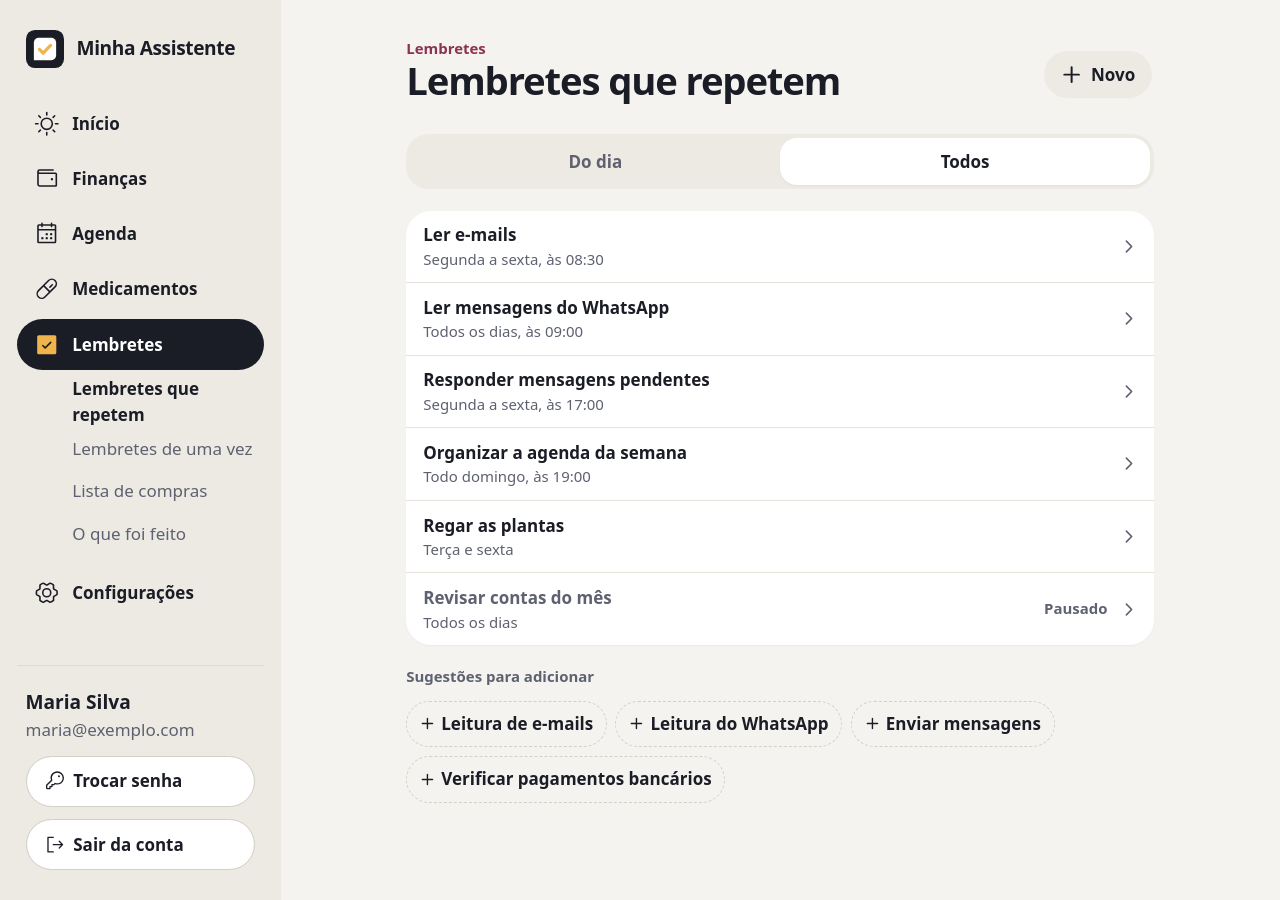
it: cadastro de tarefa › pausar e excluir
Click the link "Regar as plantas Terça e sexta": (494,525) [406,501,1154,572]
(page scrolled)
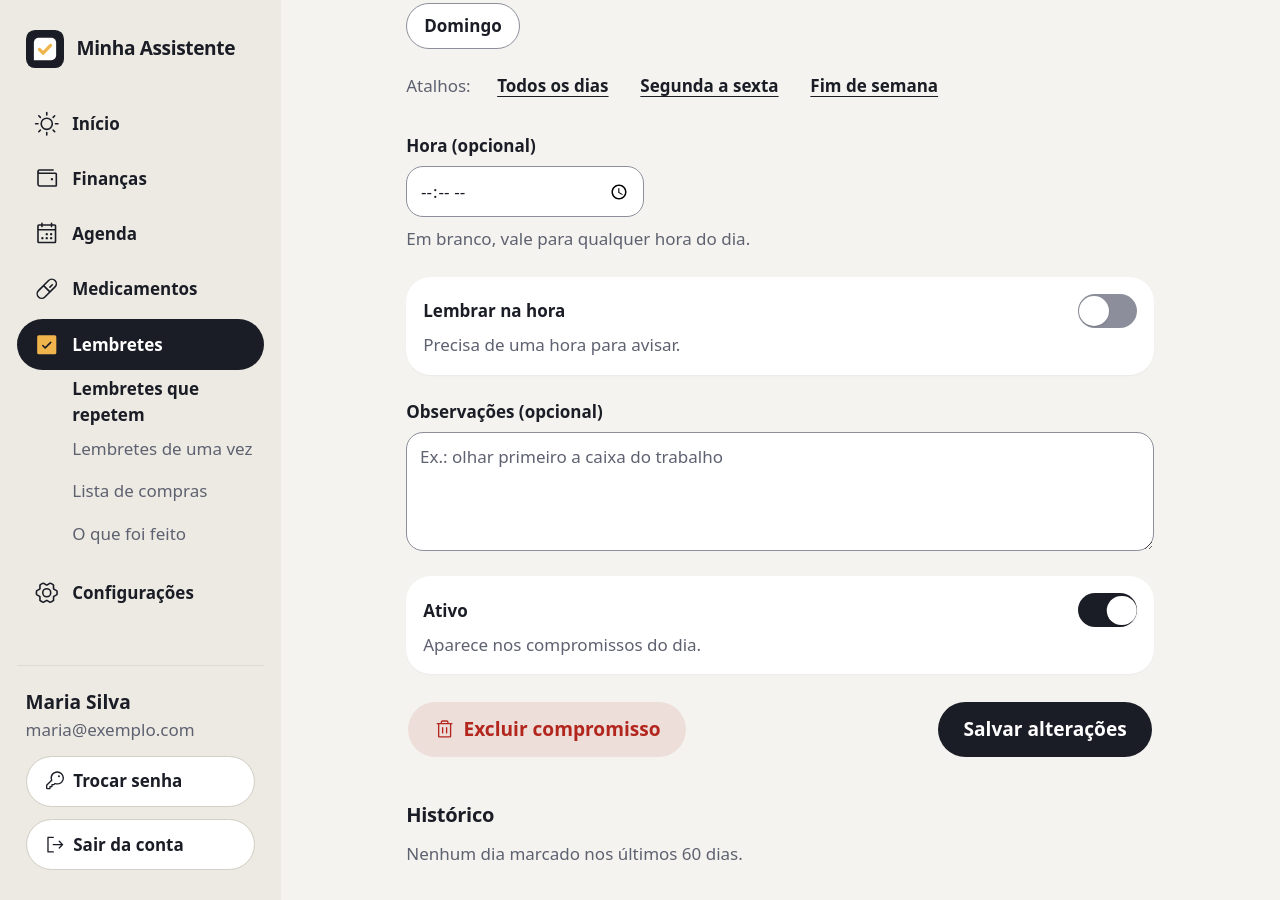
Click the switch named "Ativo" in the row of "Ativo": (1108,610) [1078,594,1137,628]
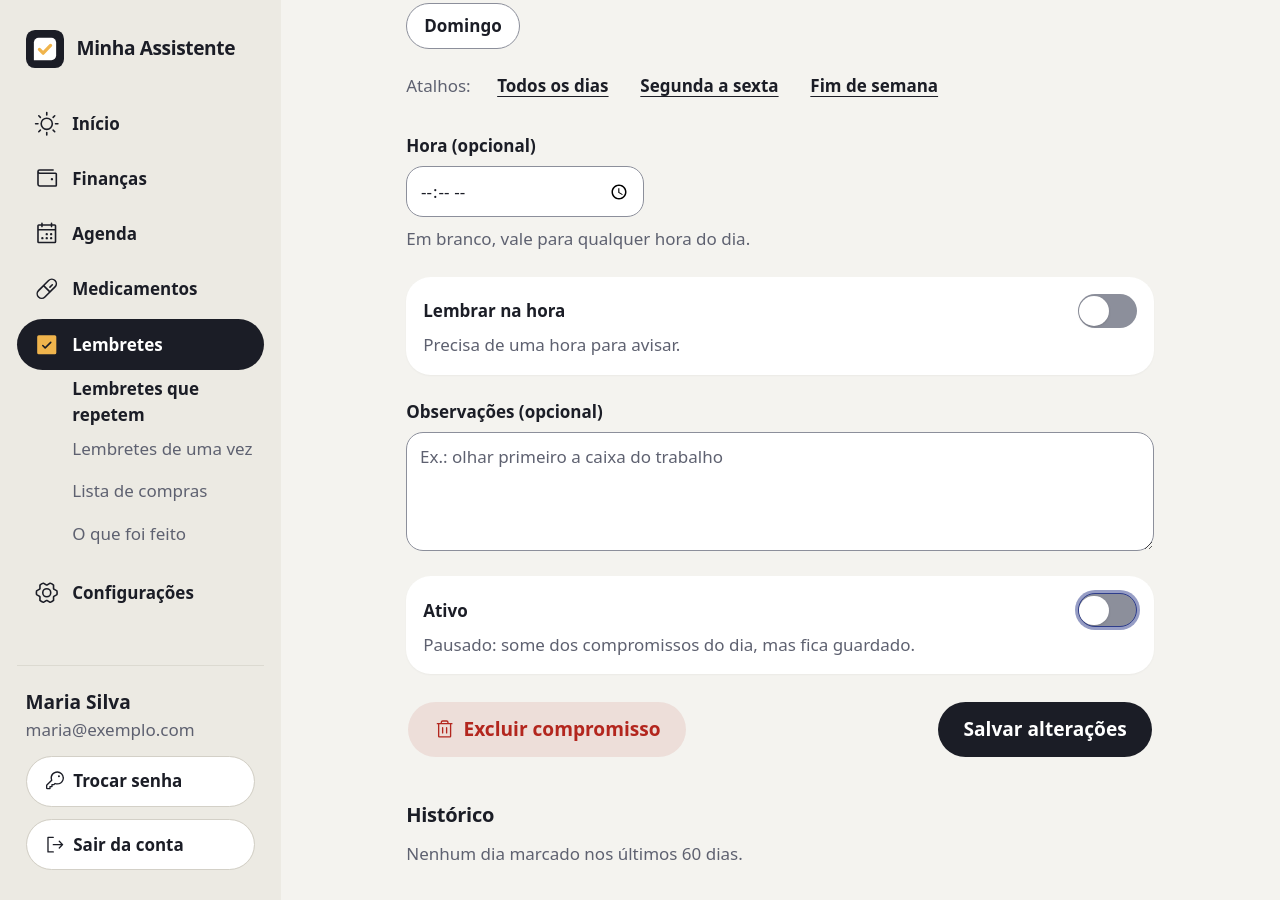
Click the button "Salvar alterações": (1045,729) [936,700,1154,759]
(page scrolled)
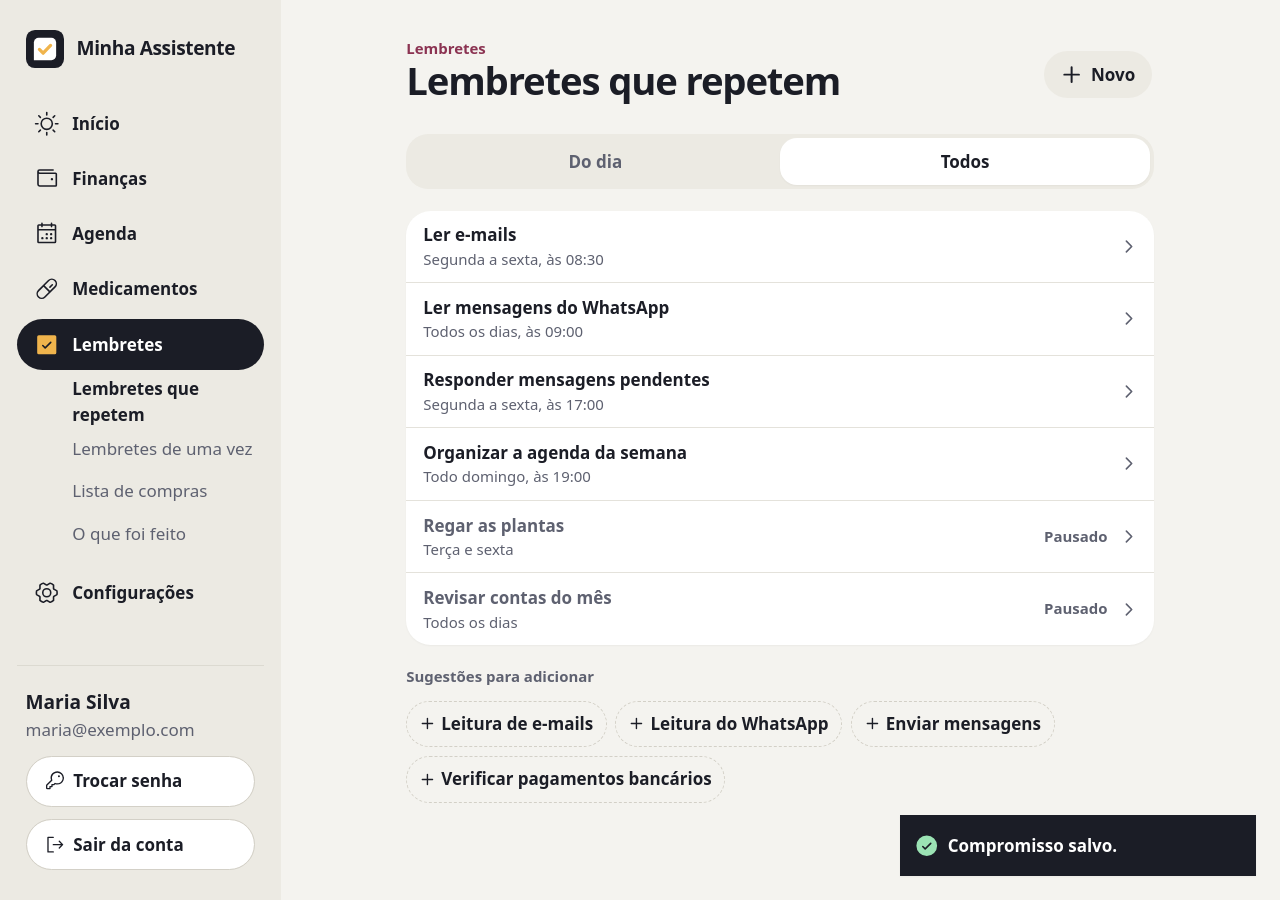
Now the text "Pausado" in the row of "Regar as plantas" is shown, box [1044,526,1108,546]
Click the link "Regar as plantas Terça e sexta Pausado": (494,525) [406,501,1154,572]
(page scrolled)
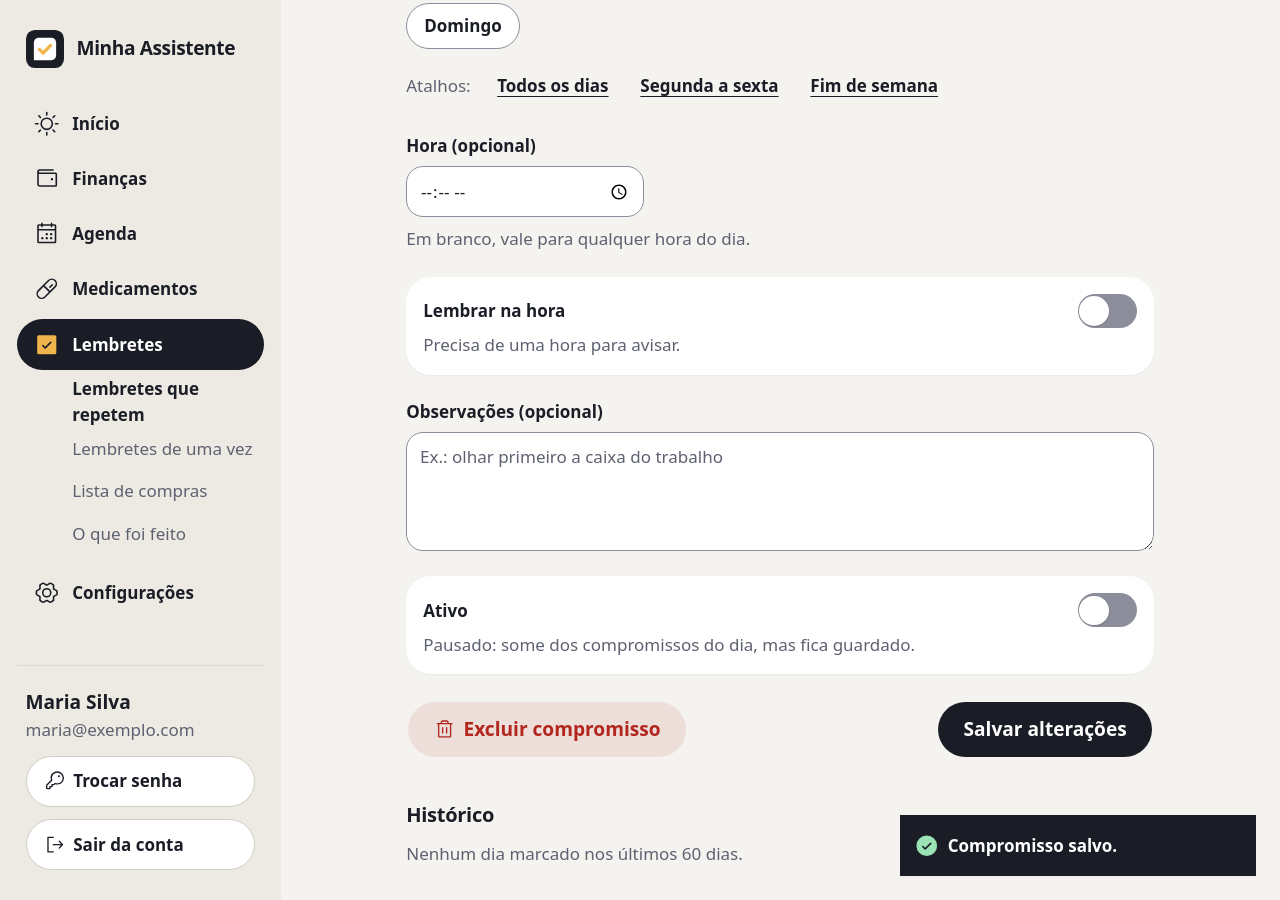
Click the button "Excluir compromisso": (547,729) [406,700,688,759]
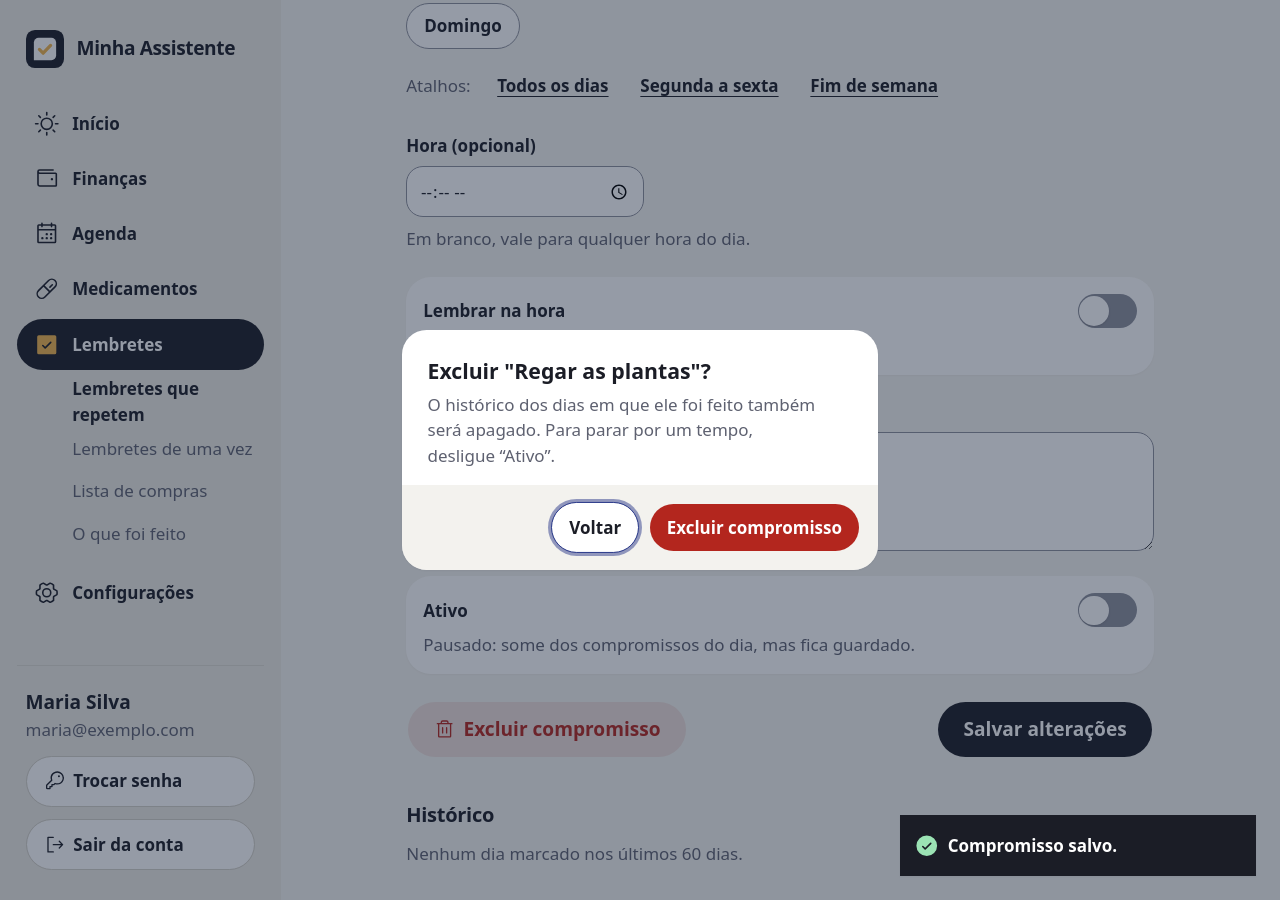
Click the button "Excluir compromisso": (754,528) [648,502,861,553]
(page scrolled)
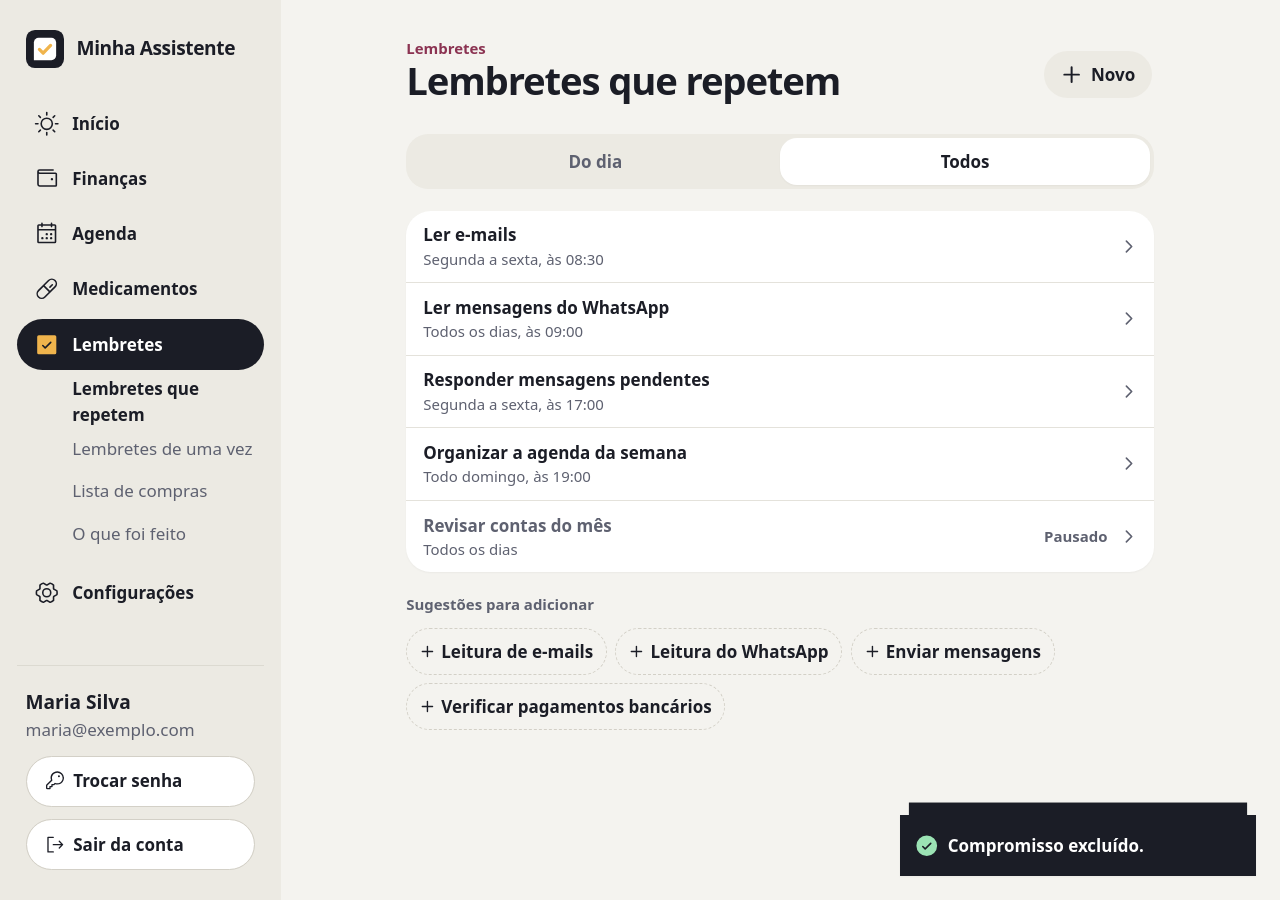
Now the text "Compromisso excluído." is shown, box [948,832,1144,858]
Now the heading "Regar as plantas" is gone
